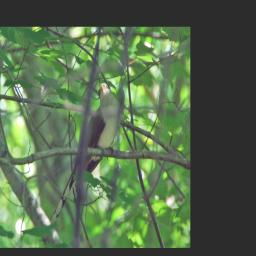Cuckoo: (45, 81, 123, 227)
